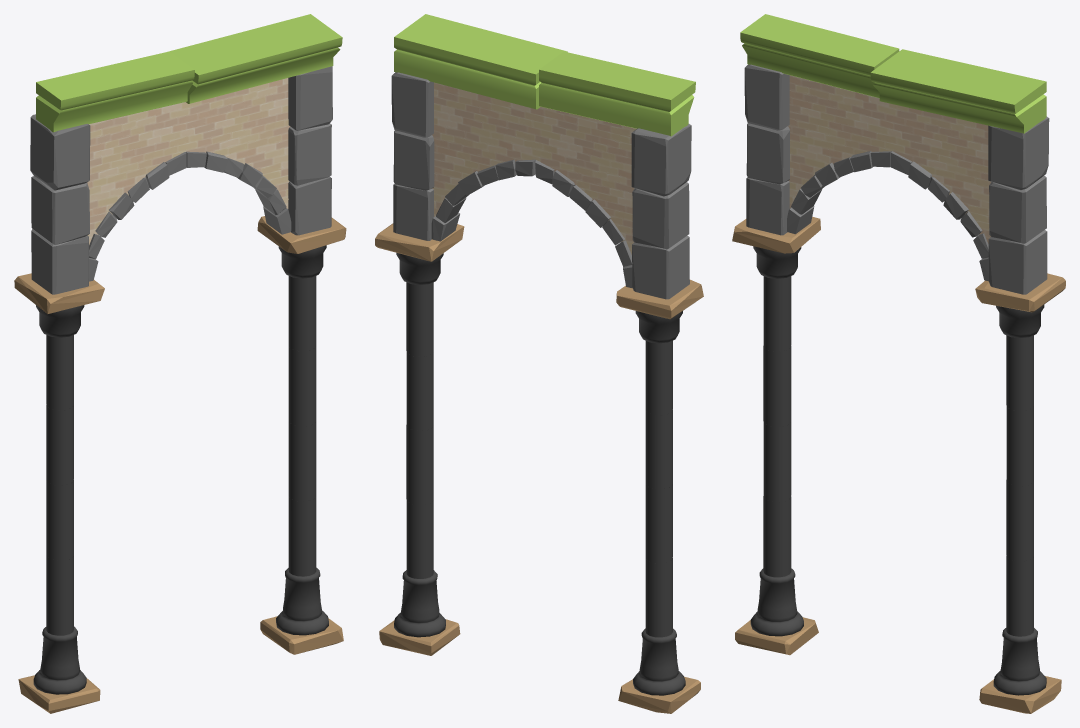
The model's file is SM_arch_01.fbx.
The picture shows the model from 3 angles, left to right: view 1: azimuth 30°, elevation 25°; view 2: azimuth 150°, elevation 25°; view 3: azimuth 330°, elevation 25°; orthographic projection.
Visible parts, largest first — view 1: Plane109; view 2: Plane109; view 3: Plane109.
Boxes of the visible parts, x1,y1,x2,y2 form: Plane109: (14,14,346,713); Plane109: (375,14,703,713); Plane109: (732,14,1065,713).
Size of the model in its own units: 158 by 309 by 36.1.
